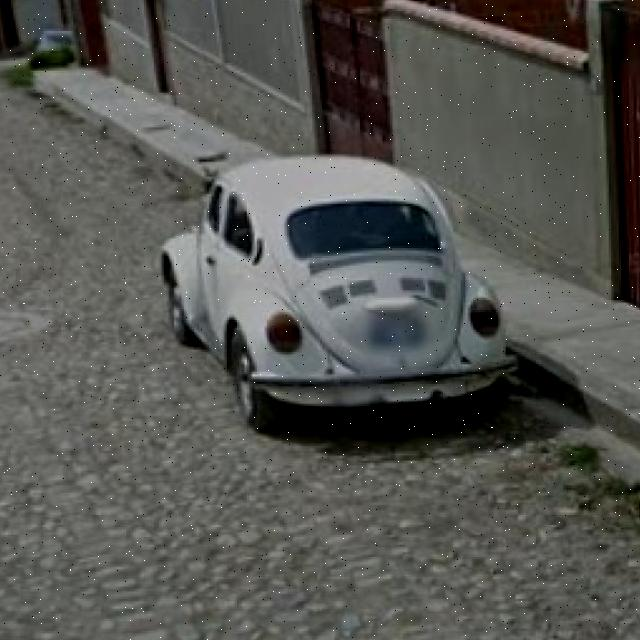car: (162, 159, 504, 421)
